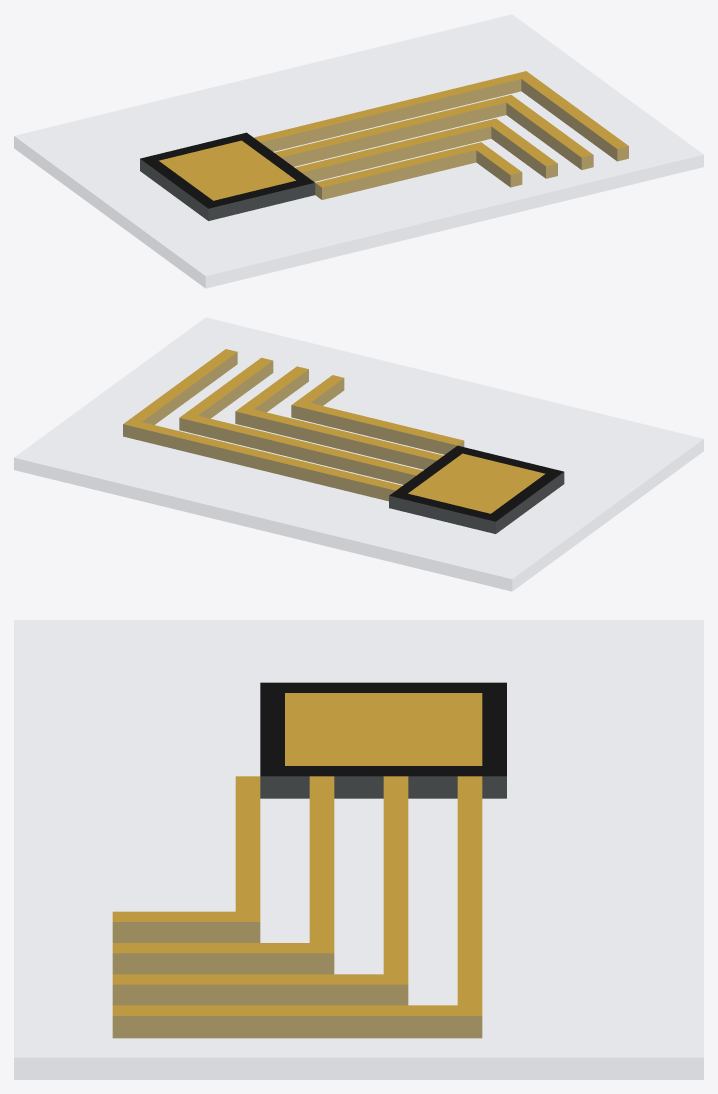
Rendered from robofac_test_data.glb.
3 renders of one model, top to bottom at view 1: azimuth 30°, elevation 25°; view 2: azimuth 150°, elevation 25°; view 3: azimuth 270°, elevation 25°, orthographic. The views are drawn at different scales.
Visible parts, largest first — view 1: robofac_test_data:compound; view 2: robofac_test_data:compound; view 3: robofac_test_data:compound.
Boxes of the visible parts, box(x1,y1,x2,y2) form: robofac_test_data:compound: box(14, 15, 703, 287); robofac_test_data:compound: box(14, 318, 703, 590); robofac_test_data:compound: box(14, 620, 703, 1079).
Size of the model in its own units: 0.084 by 0.002 by 0.056.
